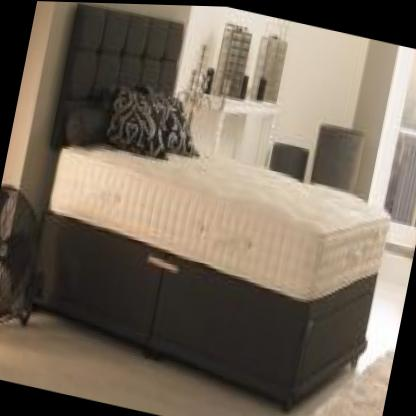Bed: (6, 0, 416, 416)
